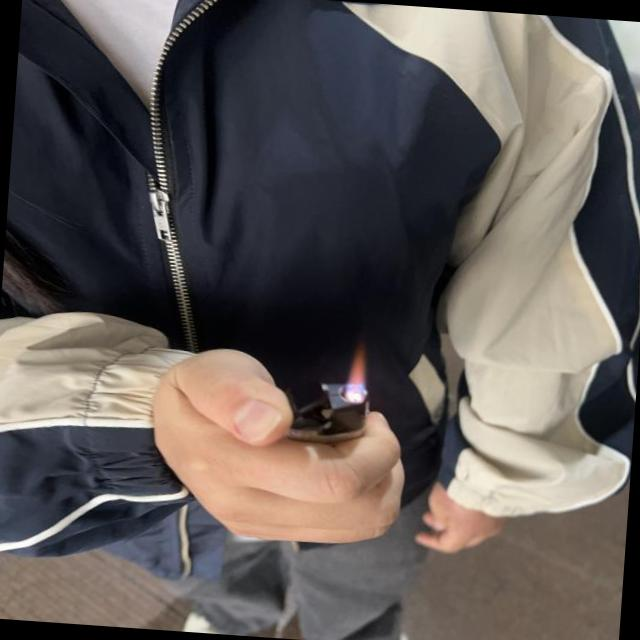Fire: (347, 342, 368, 403)
